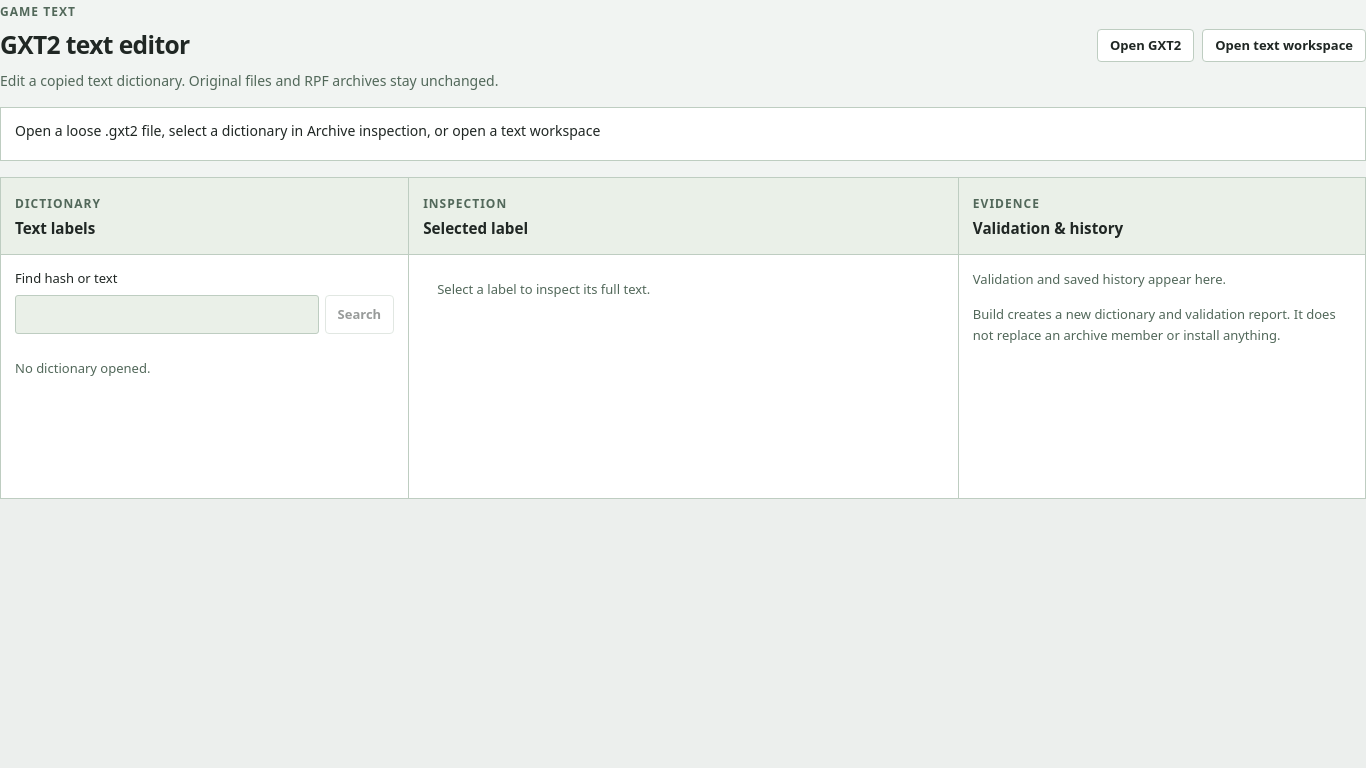
it: invalidates a failed package review without discarding saved text or output name
Click the button "Open text workspace" at (1284, 45), box [1202,29,1365,62]
(page scrolled)
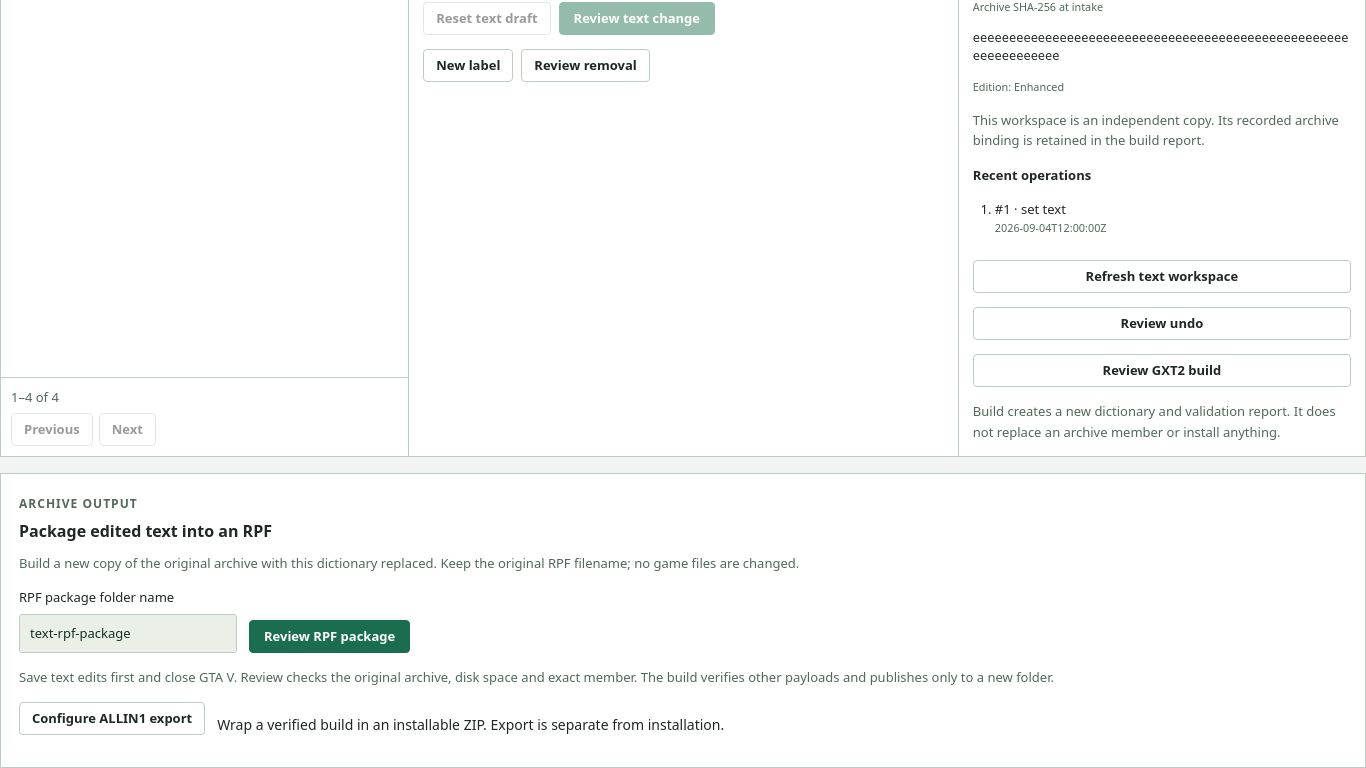
Replace the text in the field labelled "RPF package folder name" with "custom-rpf" at (128, 633), box [19,614,237,653]
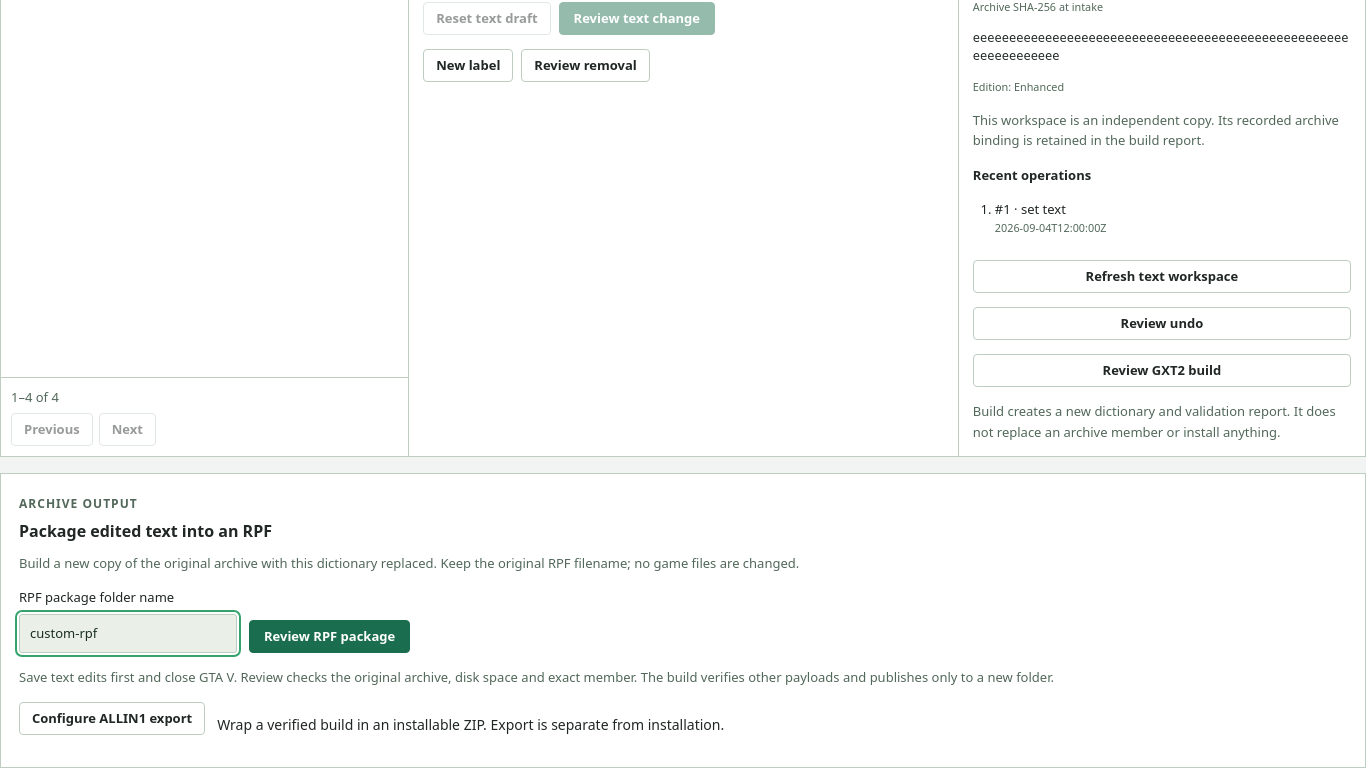
Click the button "Review RPF package" at (330, 637), box [249,620,410,653]
(page scrolled)
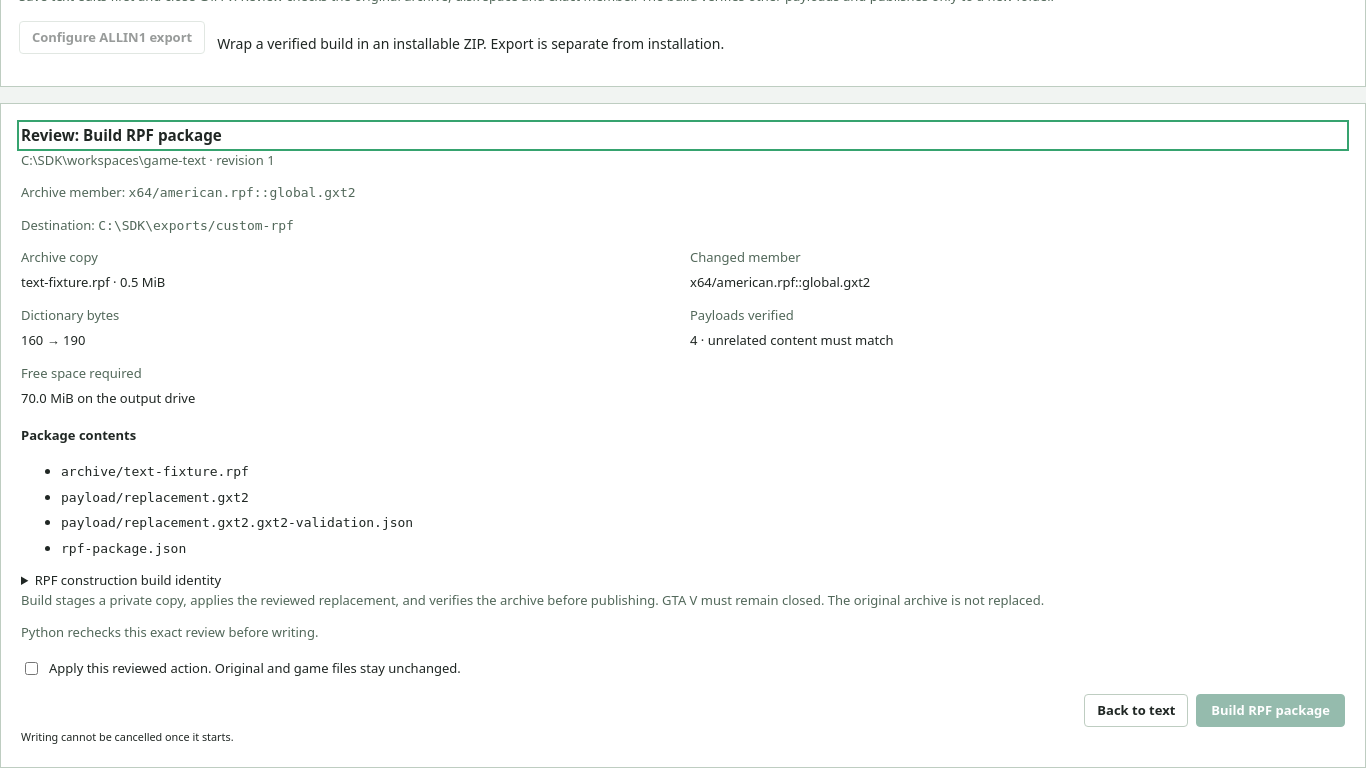
Now the heading "Review: Build RPF package" is shown, box [21,125,222,145]
Click the checkbox at (32, 669), box [25,662,38,675]
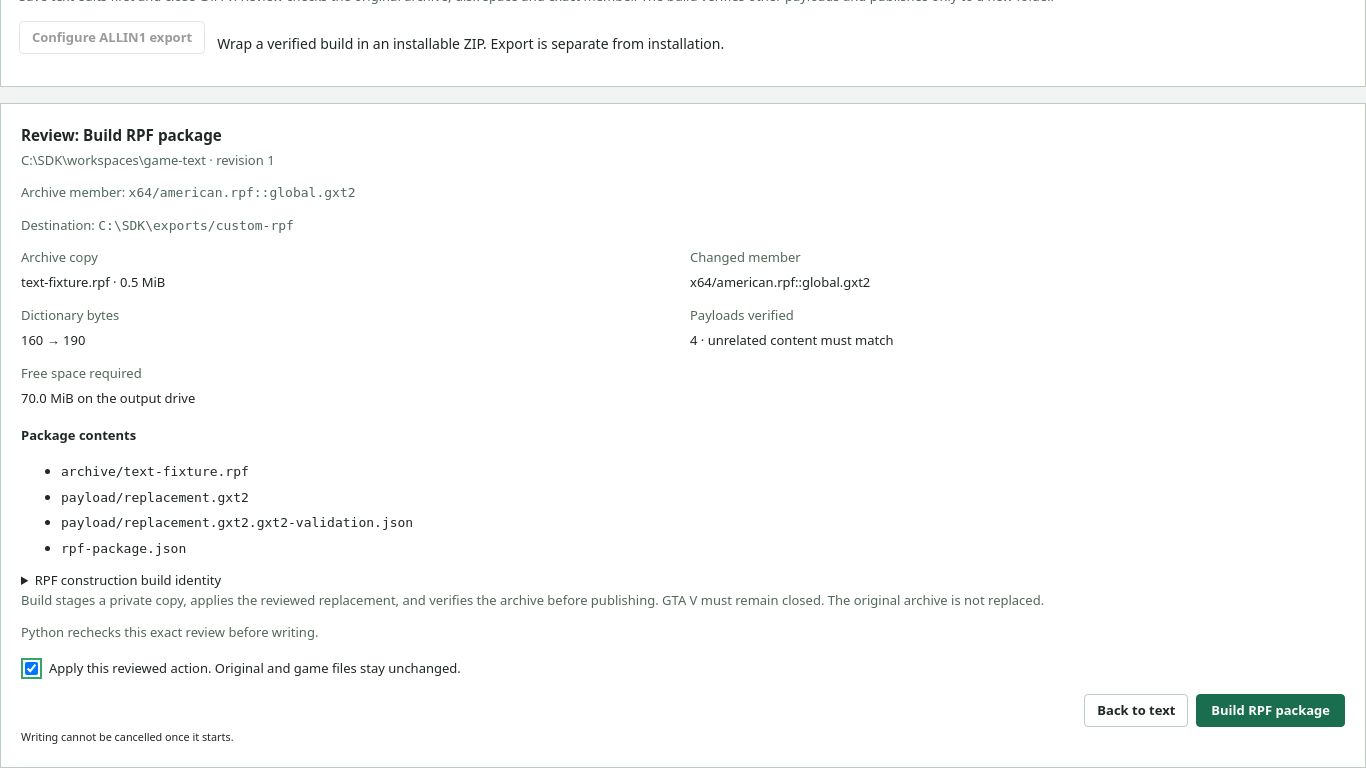
Click the button "Build RPF package" at (1271, 711), box [1196,694,1345,727]
(page scrolled)
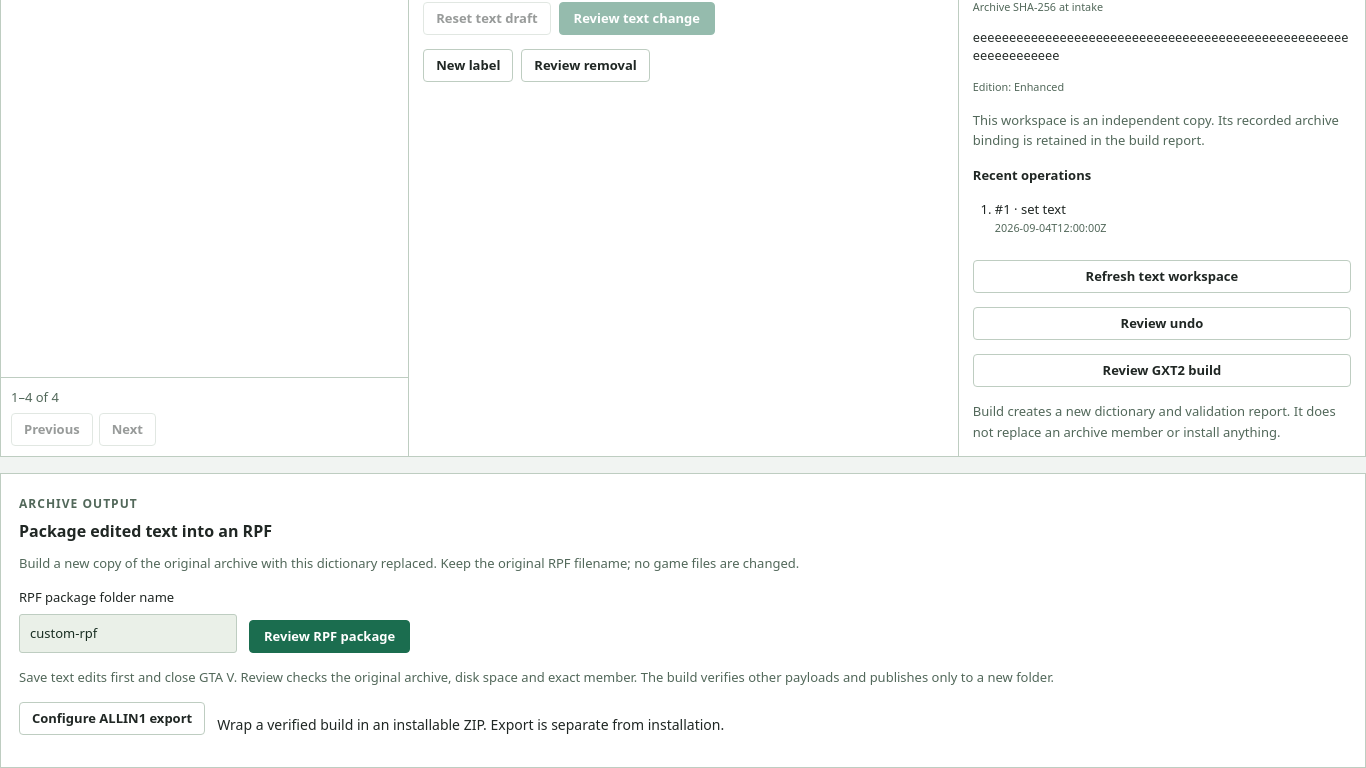
Now the checkbox is gone
Click the button "Review RPF package" at (330, 637), box [249,620,410,653]
(page scrolled)
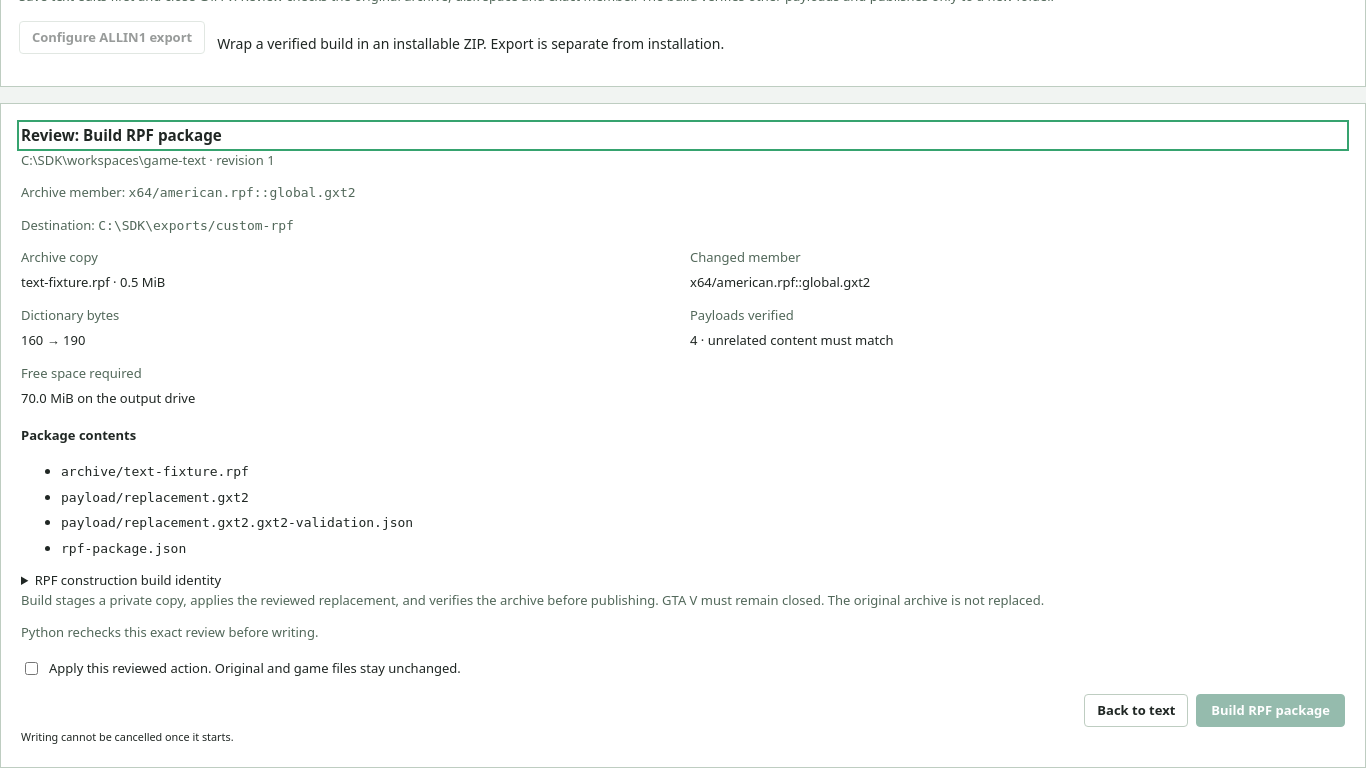
Now the heading "Review: Build RPF package" is shown, box [21,125,222,145]
Now the checkbox is not checked, box [25,662,38,675]
